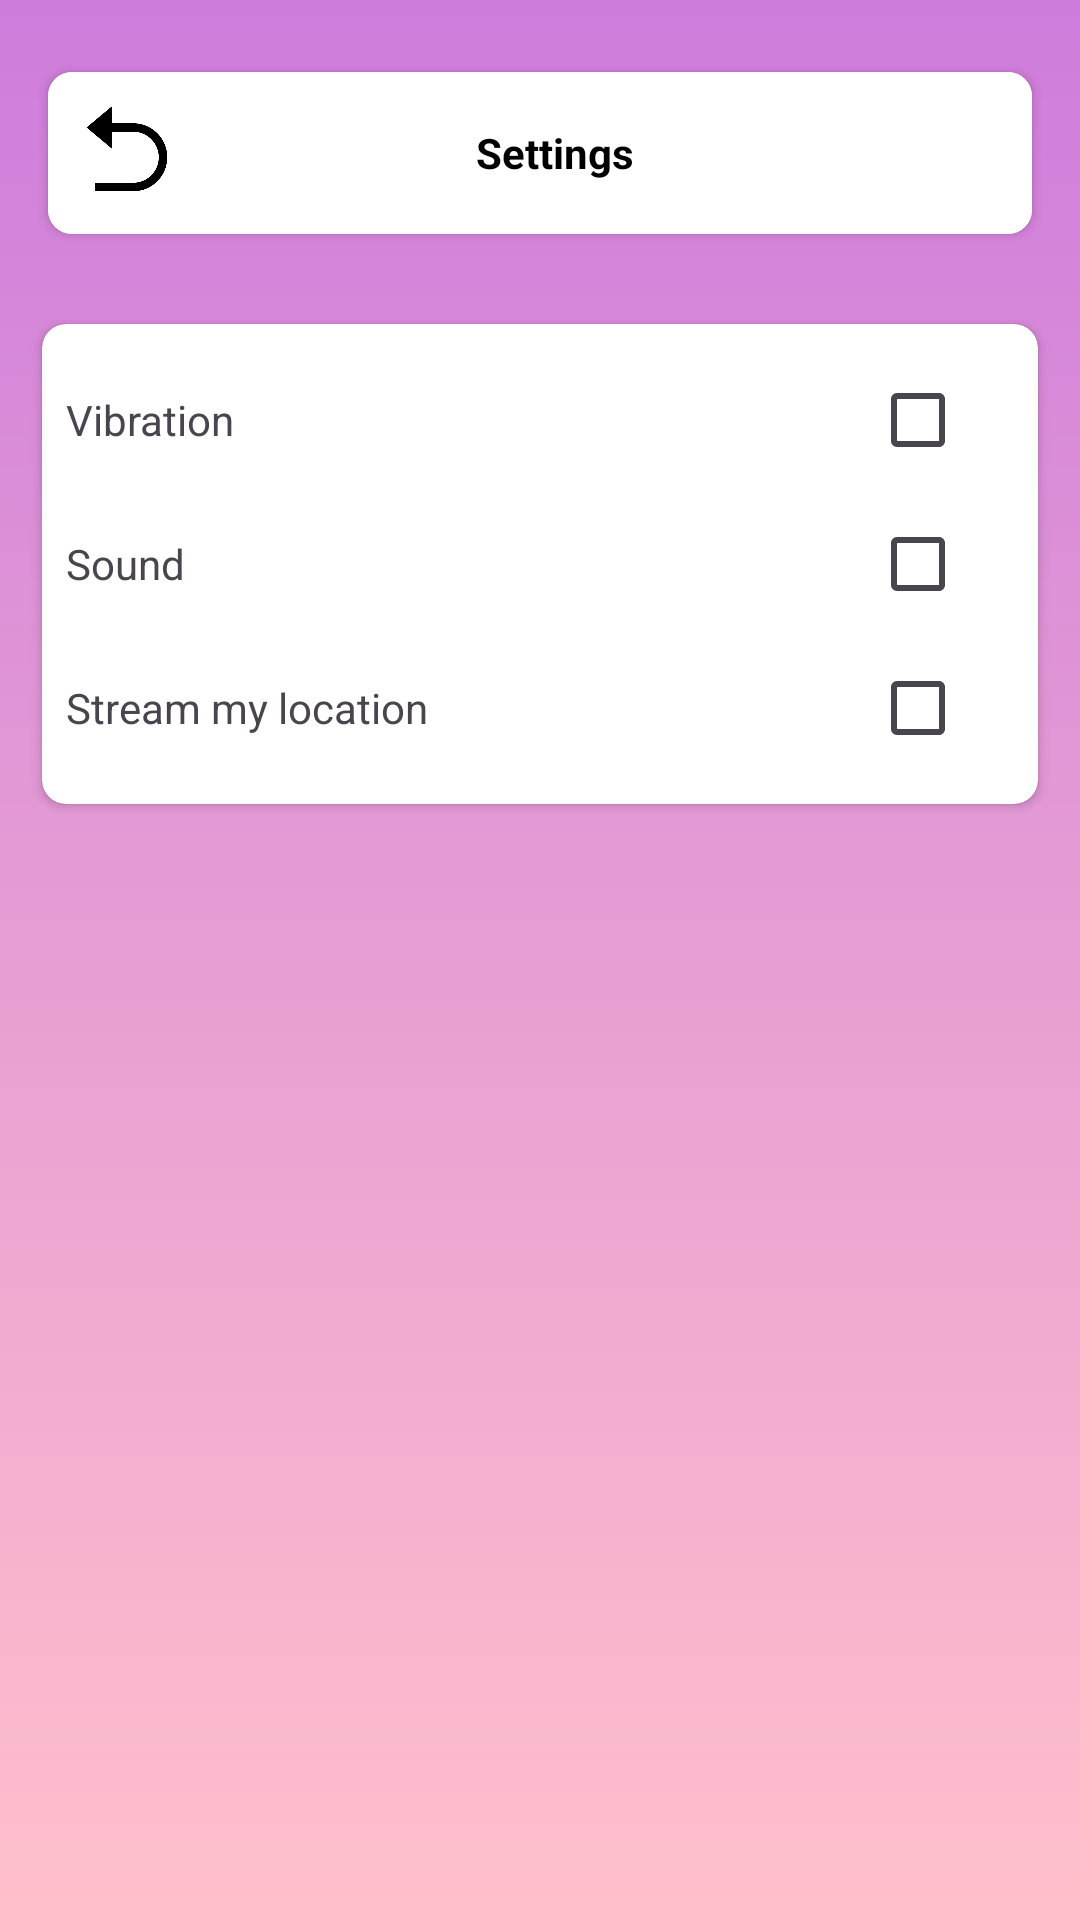

Where to tap for icons on this 1080 x 1920 app screen, as (x,y):
arraw back: (126,149)
